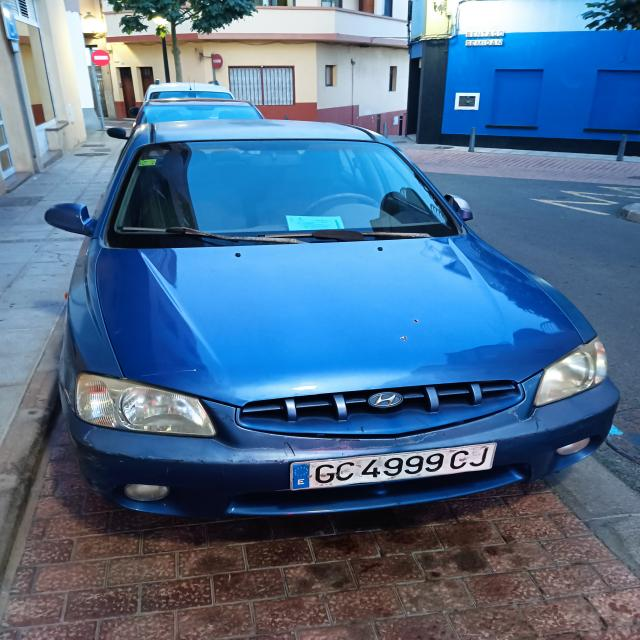football: (290, 442, 496, 490)
